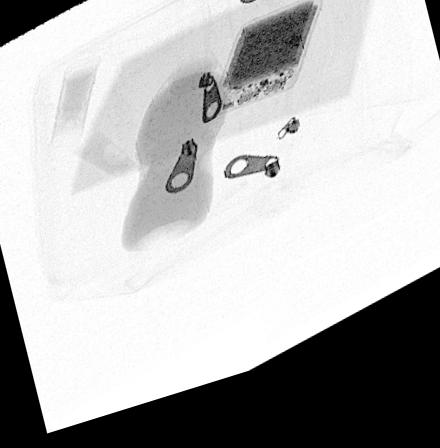Powerbank: (206, 13, 323, 131)
